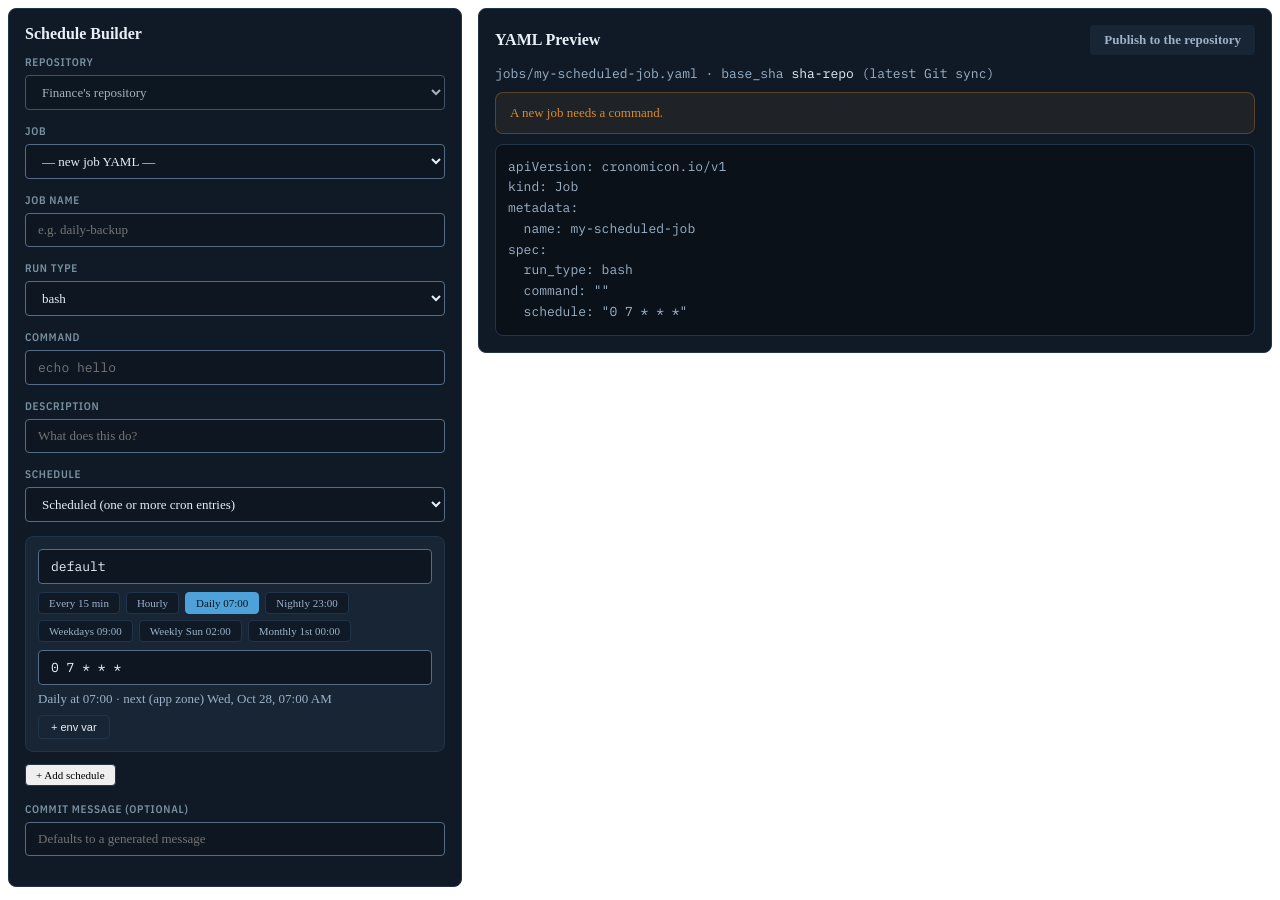
Test: Publish — per repository (R8) › says a protected branch refused the push
Type "nightly" into the field with placeholder "e.g. daily-backup" at (235, 230), box [25,213,445,247]
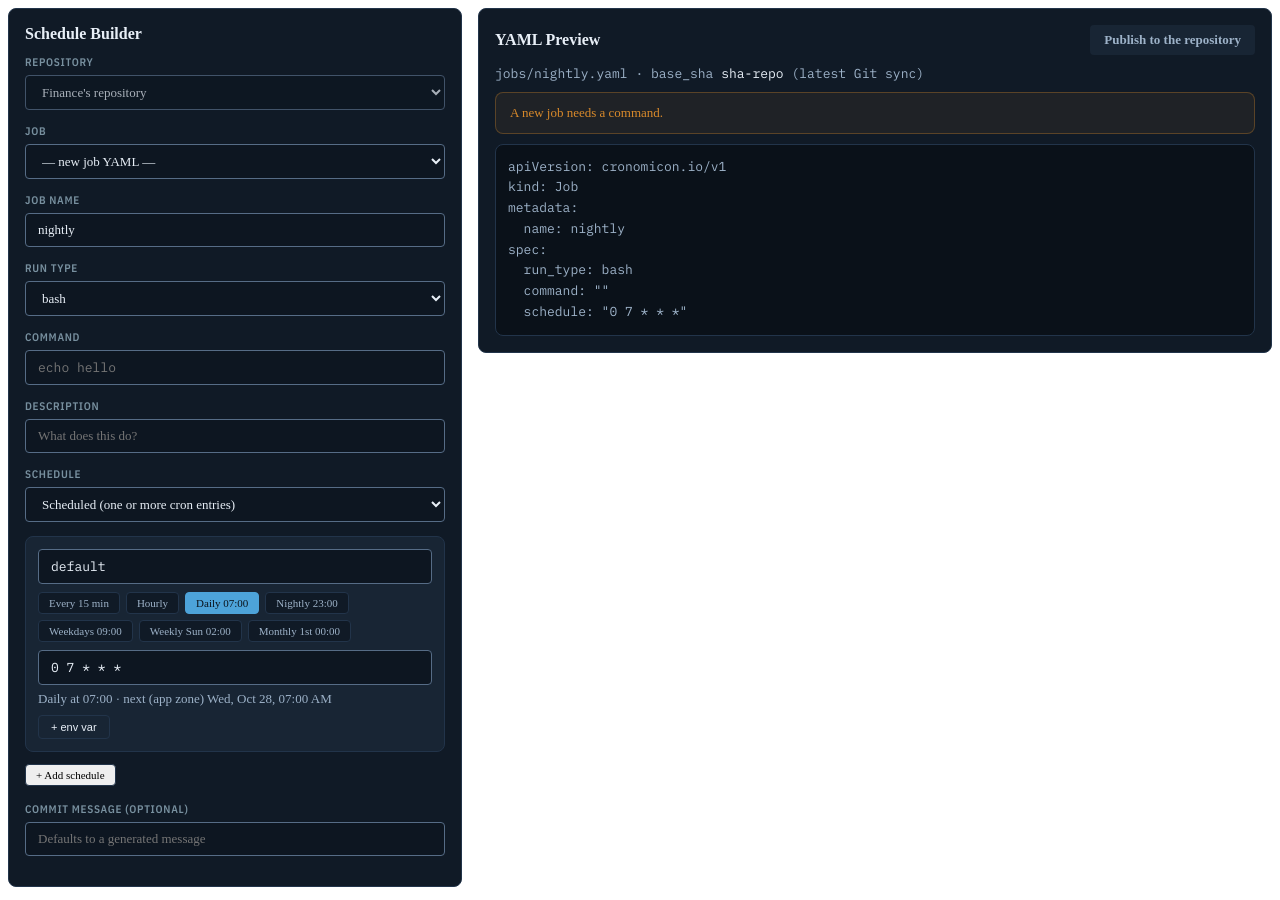
Type "echo hi" into the field with placeholder "echo hello" at (235, 368), box [25,350,445,385]
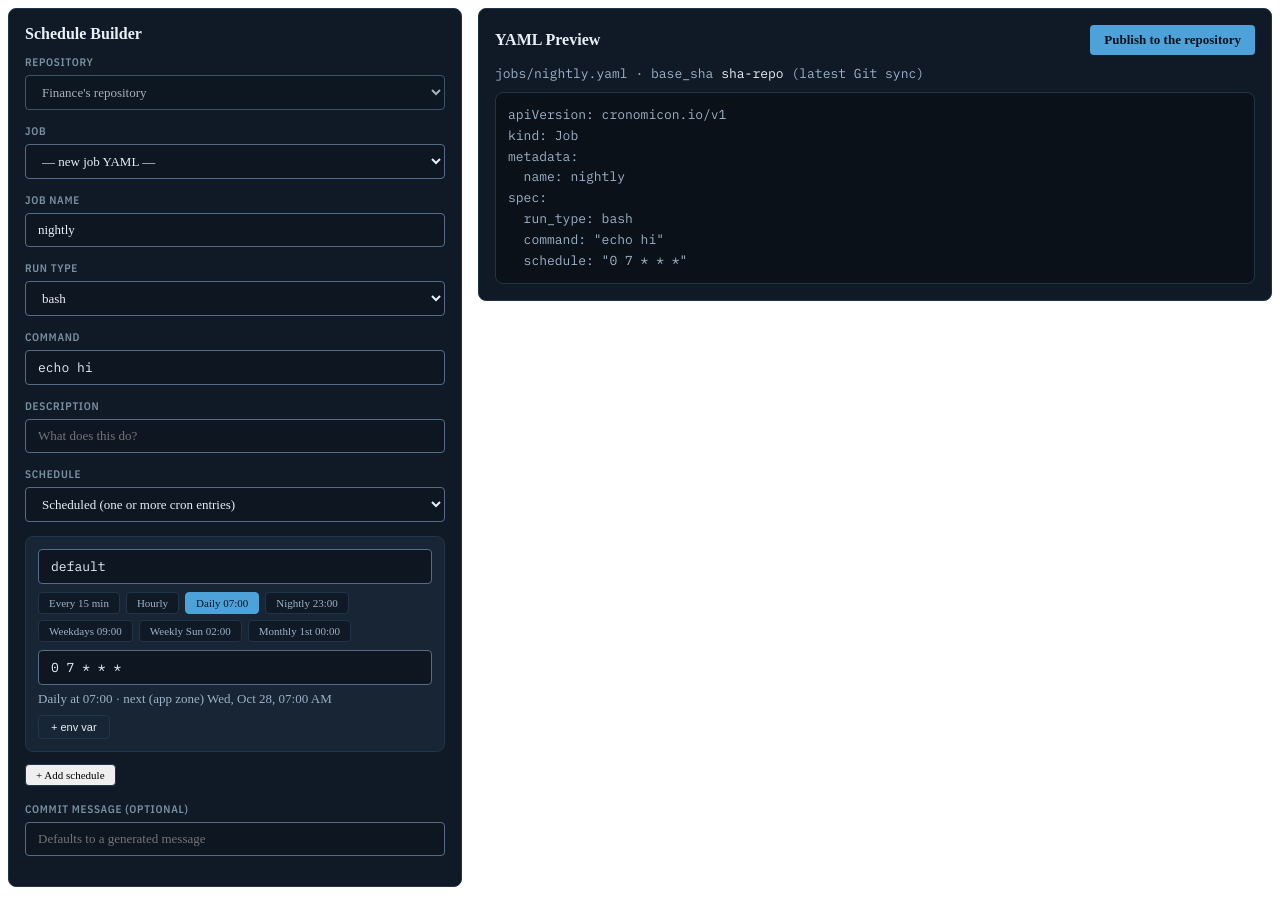
Now the button "Publish to the repository" is enabled
Click the button "Publish to the repository" at (1173, 40), box [1090,25,1255,55]
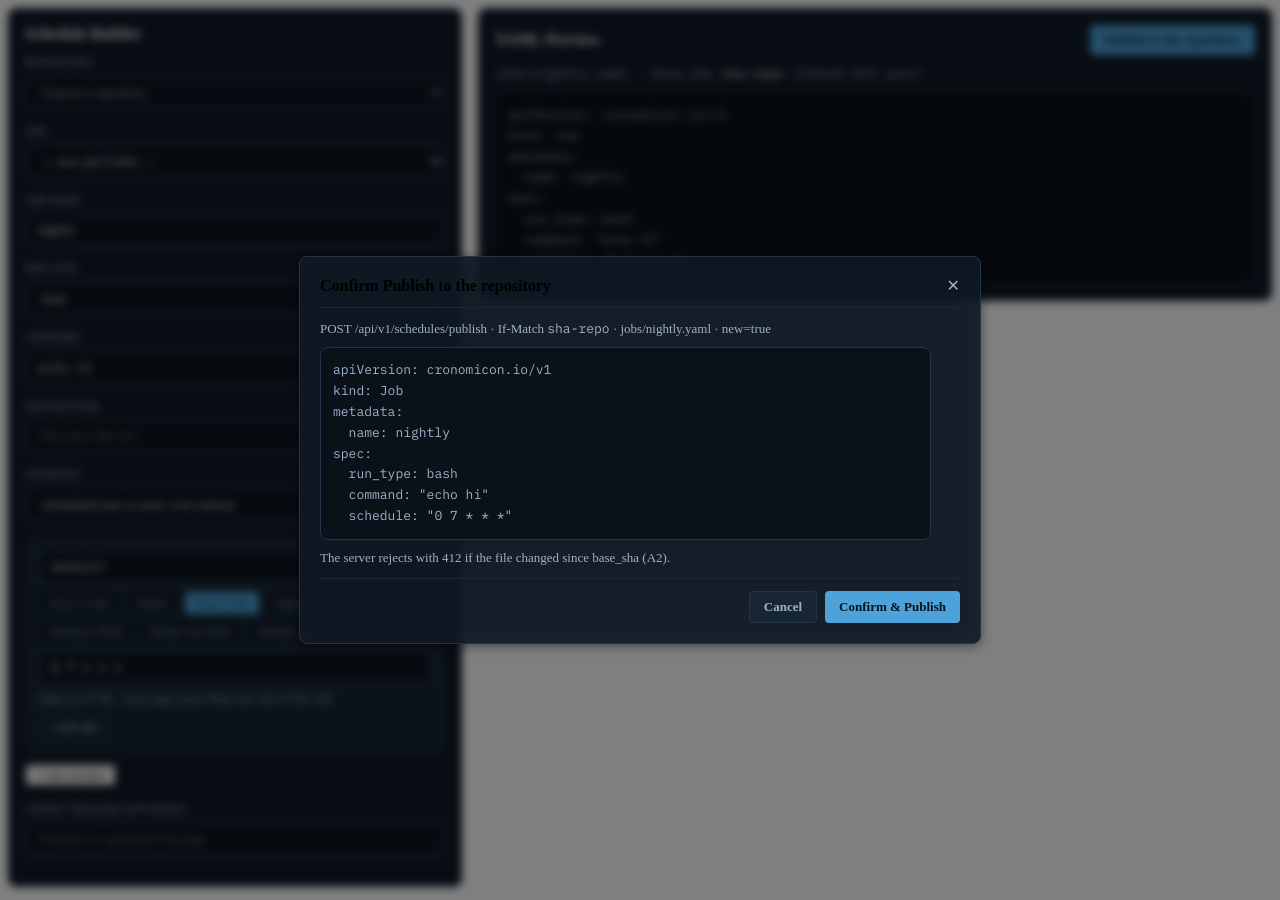
Click the button "Confirm & Publish" at (893, 607), box [825,591,960,623]
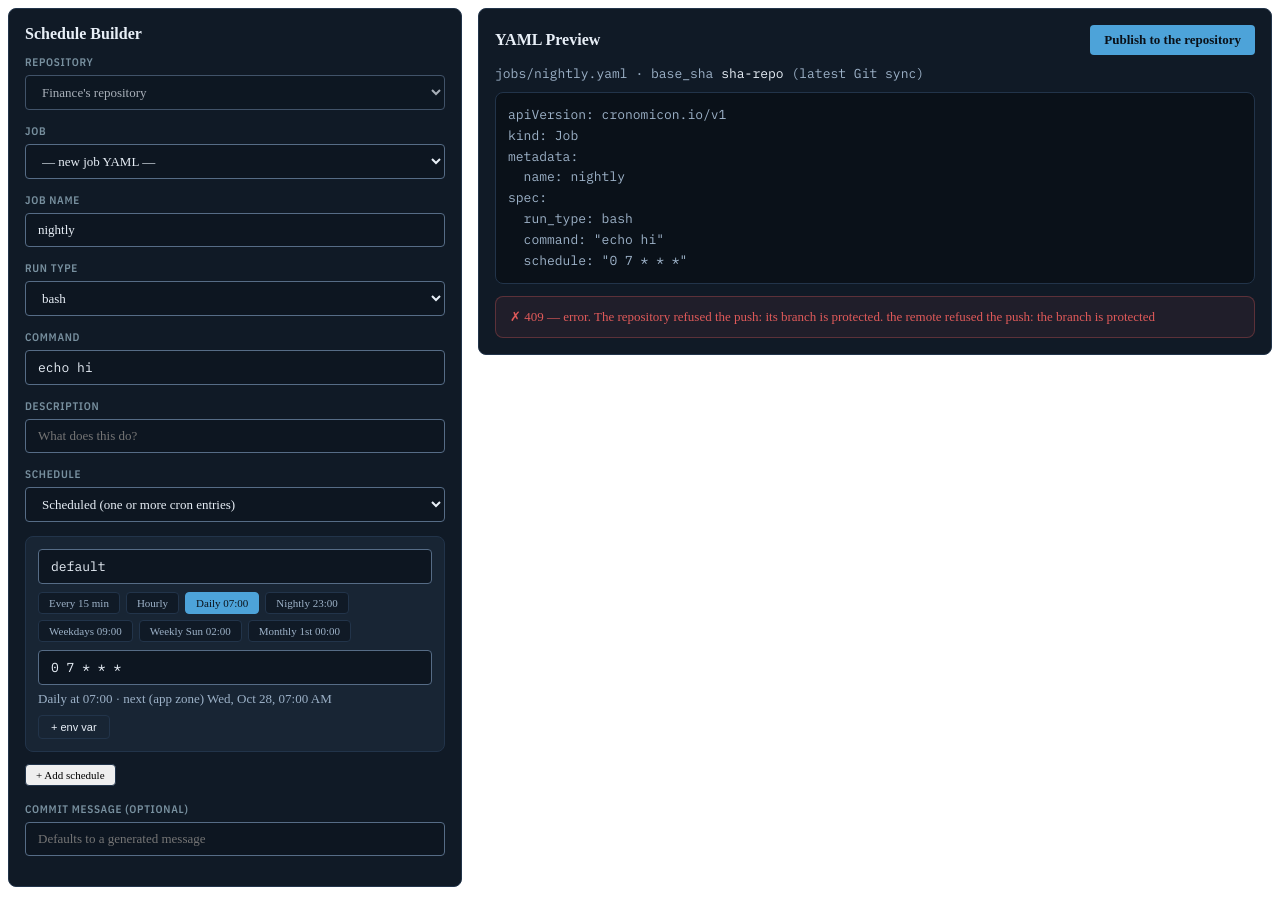
Now the text "The repository refused the push: its branch is protected." is shown, box [594,309,1155,324]
